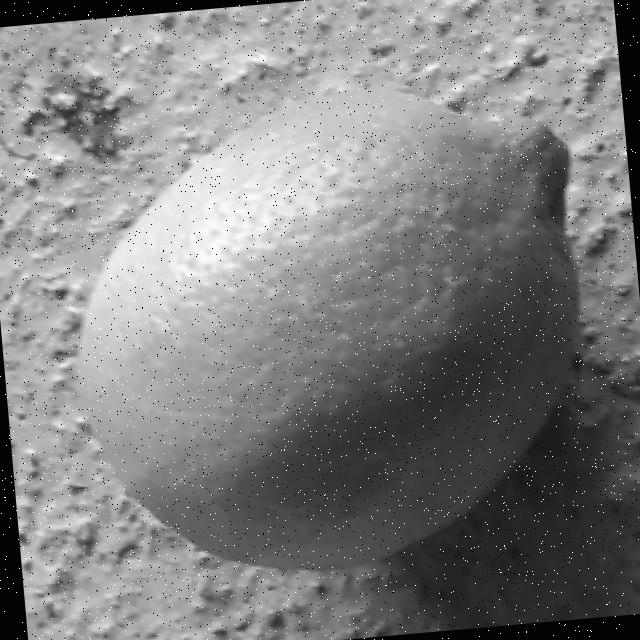Lemon: (52, 69, 602, 590)
